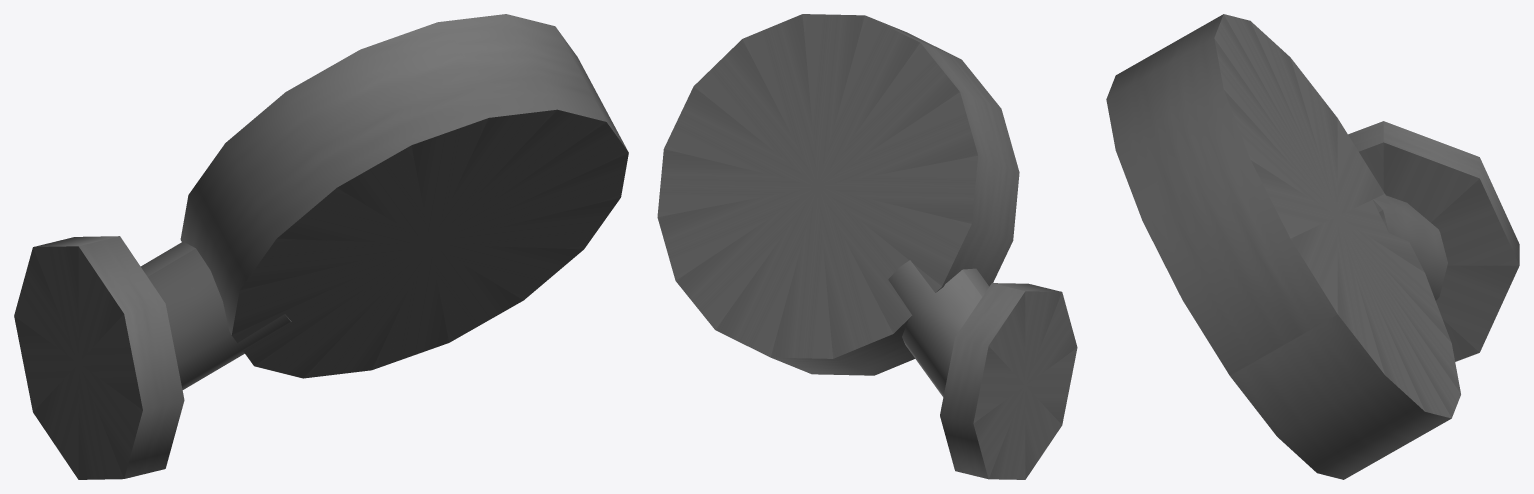
The model's file is mastarmcurve_6x2_c0_ped_west.obj.
The picture shows the model from 3 angles, left to right: view 1: azimuth 30°, elevation 25°; view 2: azimuth 150°, elevation 25°; view 3: azimuth 270°, elevation 25°; orthographic projection. The views are drawn at different scales.
Parts seen in each view (by area): view 1: mastarm_6x2_c0_ped_west; view 2: mastarm_6x2_c0_ped_west; view 3: mastarm_6x2_c0_ped_west.
Part boxes in pixels (x1,y1,x2,y2): mastarm_6x2_c0_ped_west: (14,14,628,479); mastarm_6x2_c0_ped_west: (657,14,1077,479); mastarm_6x2_c0_ped_west: (1106,14,1519,479).
Size of the model in its own units: 0.8409 by 0.7676 by 0.6079.
